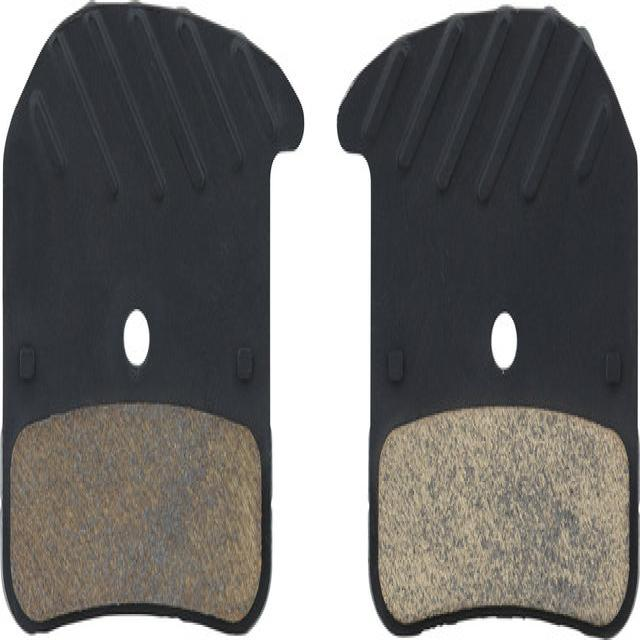brake_pad: (0, 9, 323, 640), (337, 9, 640, 640)
